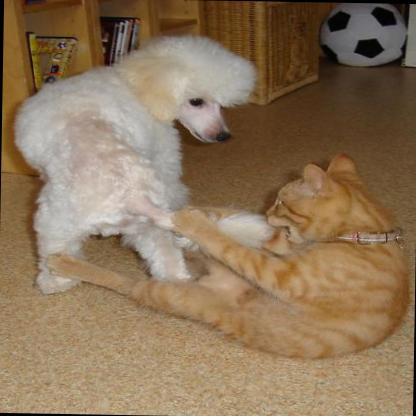toy_poodle: (10, 27, 275, 296)
